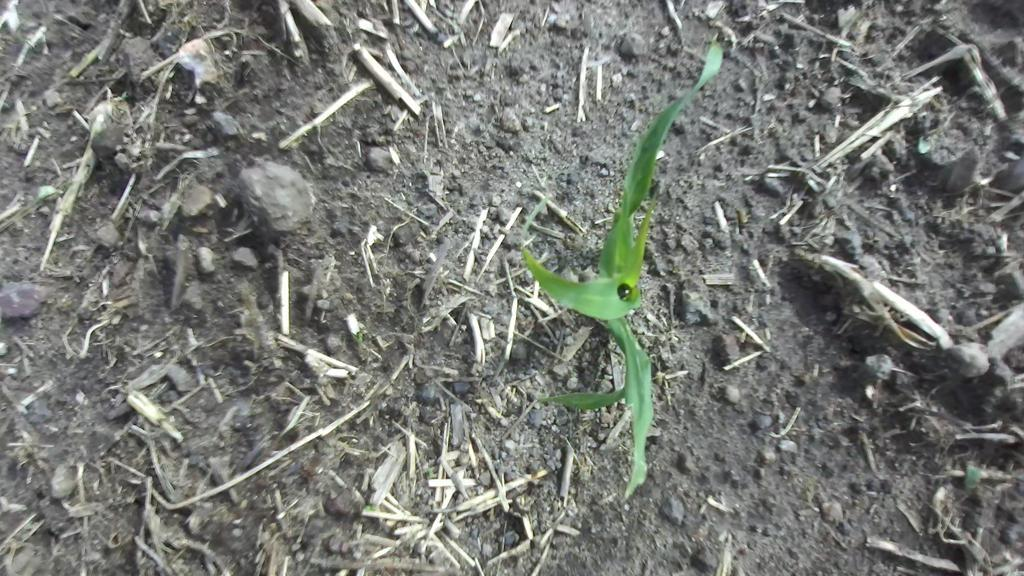BroWeed: (33, 179, 58, 200), (911, 134, 933, 156), (964, 463, 980, 489), (109, 90, 129, 105), (426, 467, 435, 477), (358, 332, 363, 341), (365, 506, 375, 510)
Maize: (481, 15, 724, 505)
